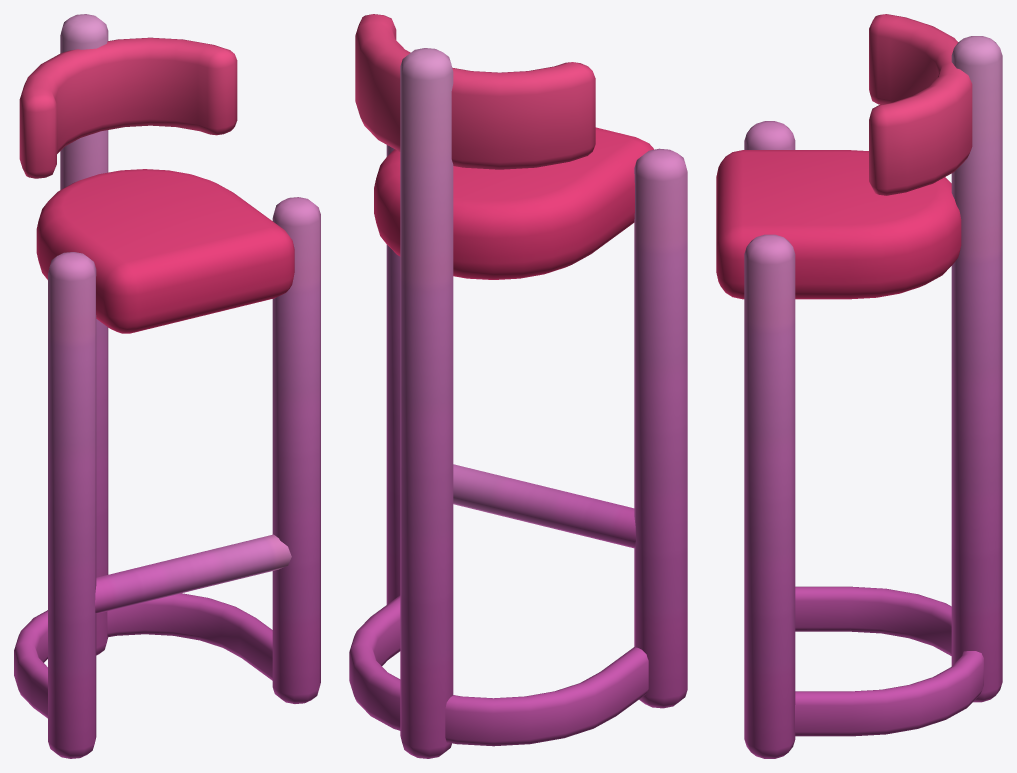
The model's file is Chair_02.glb.
3 renders of one model, left to right at view 1: azimuth 30°, elevation 25°; view 2: azimuth 150°, elevation 25°; view 3: azimuth 270°, elevation 25°, orthographic. The views are drawn at different scales.
Visible parts, largest first — view 1: Chair_02; view 2: Chair_02; view 3: Chair_02.
Part boxes in pixels (x1=…): Chair_02: x1=14, y1=14, x2=320, y2=758; Chair_02: x1=349, y1=14, x2=687, y2=758; Chair_02: x1=716, y1=14, x2=1002, y2=758.
Size of the model in its own units: 0.4802 by 1.1 by 0.4331.
Materials: 1 (1 with a texture image).
